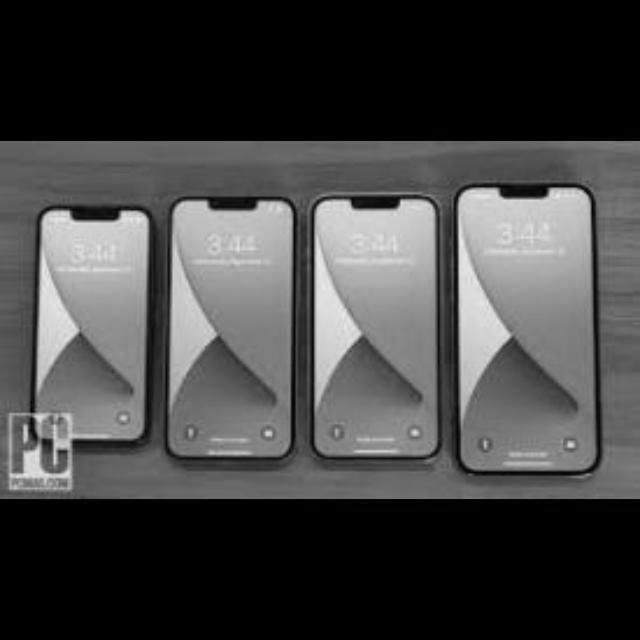fake: (452, 174, 600, 476), (307, 189, 447, 473), (162, 188, 302, 461), (30, 190, 155, 464)
